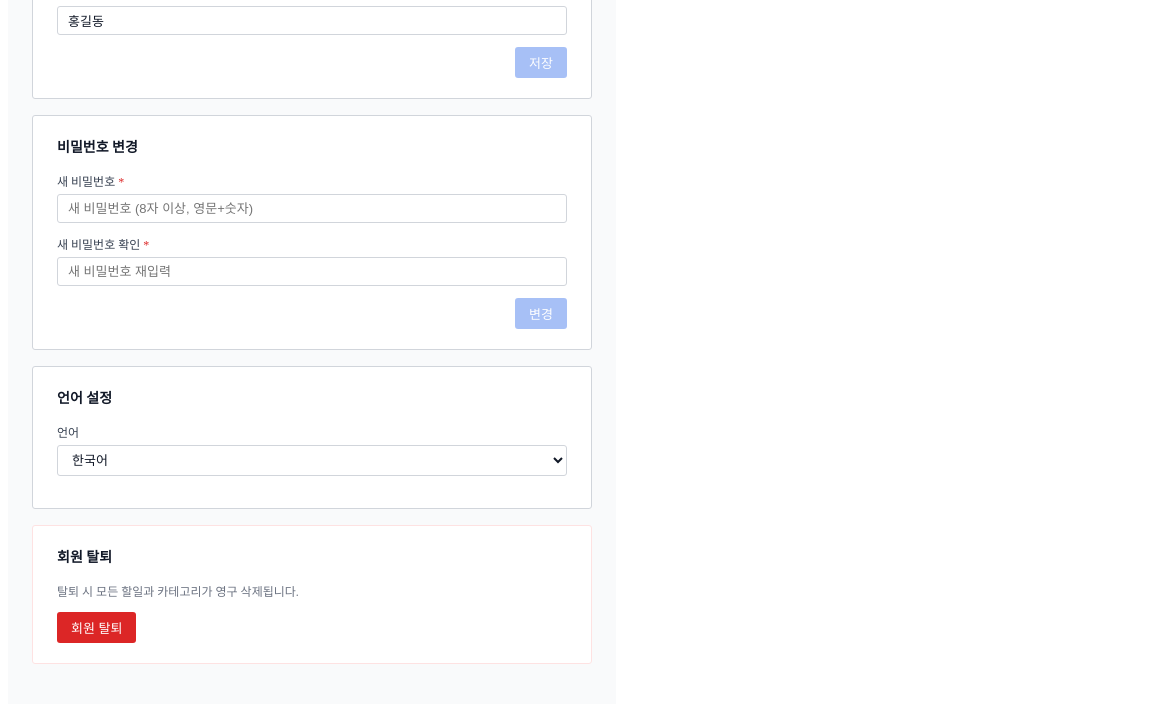
Test case: ProfilePage — 회원 탈퇴 › 비밀번호 미입력 상태에서 탈퇴 버튼 클릭 시 오류 메시지를 표시한다
This screenshot has width=1152, height=712.
(page scrolled)
Click the button "회원 탈퇴".
click(97, 628)  # box [57, 612, 136, 643]
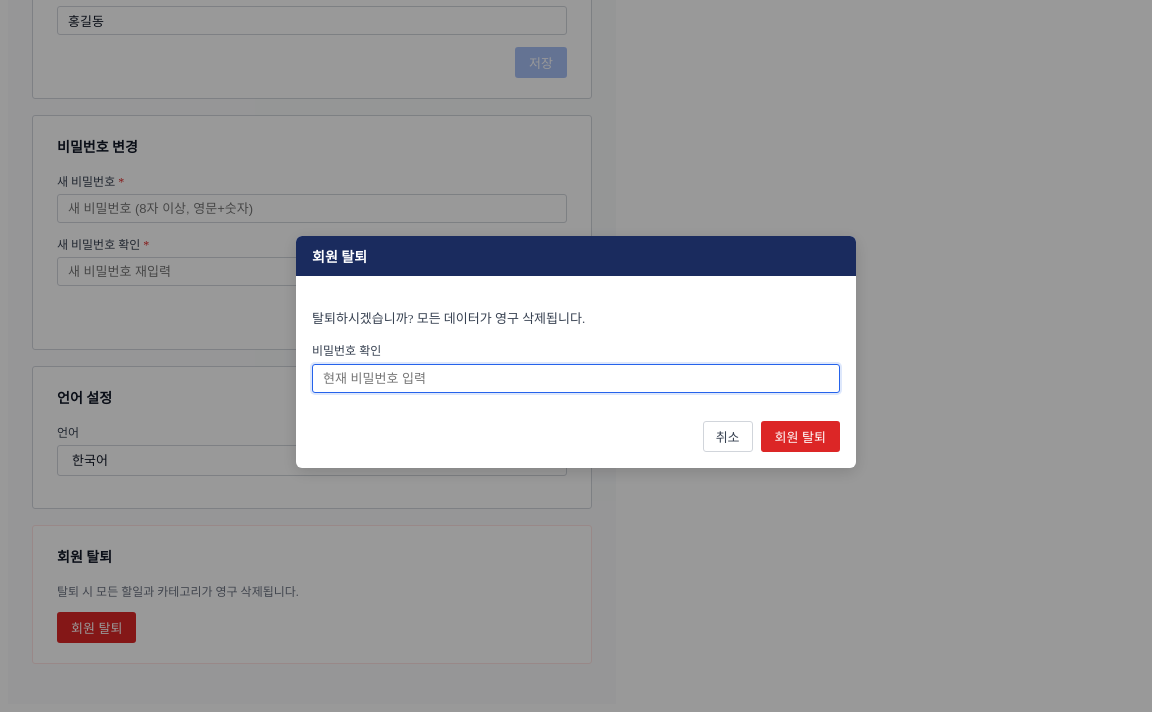
Click the button "회원 탈퇴".
click(800, 436)  # box [760, 421, 840, 452]
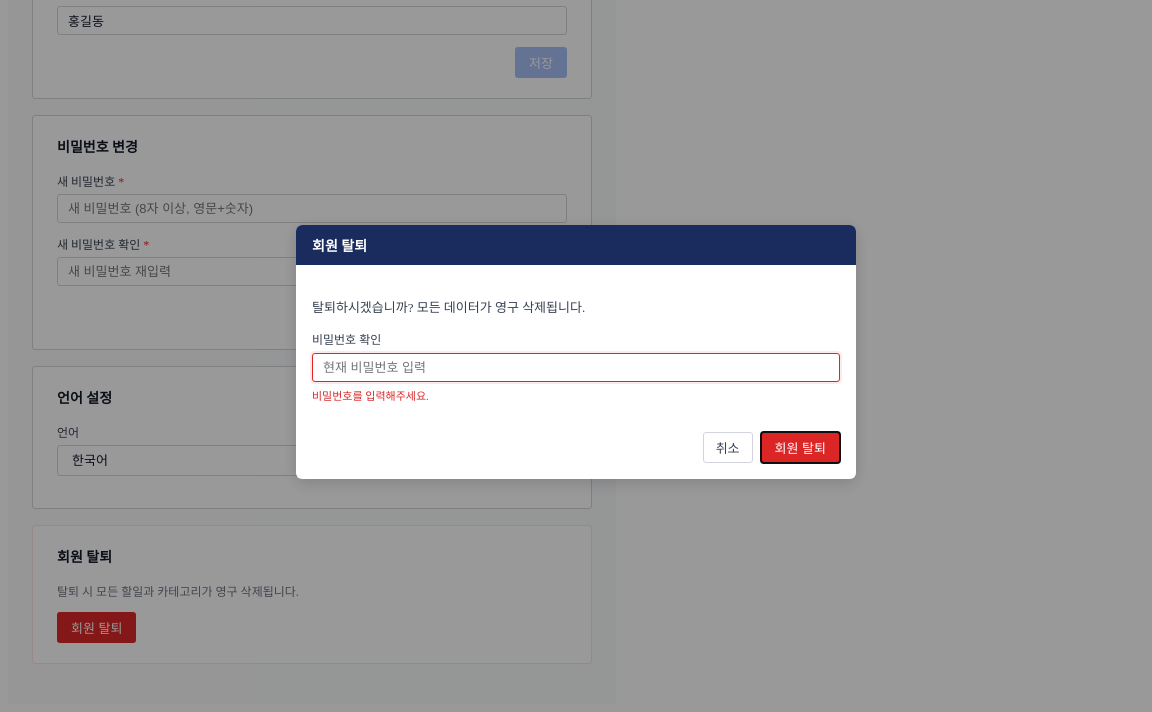
Expected: the text "비밀번호를 입력해주세요." is shown, [312, 390, 429, 402]
